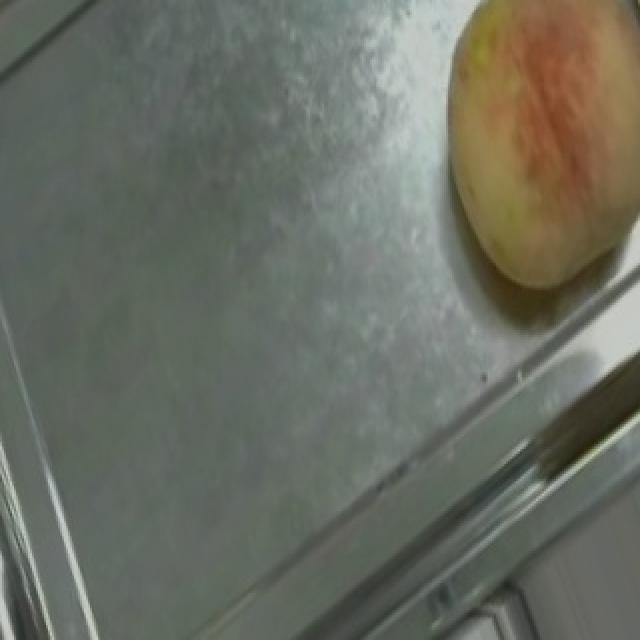Fruit: (396, 0, 640, 320)
